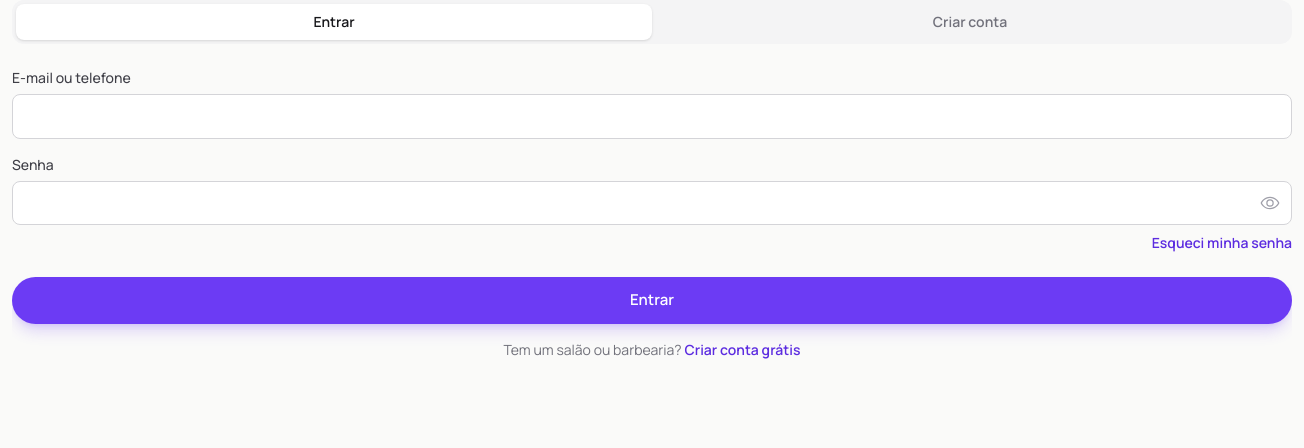
it: LoginForm: e-mail não confirmado › mostra a mensagem e o botão de reenviar quando a conta falta confirmar
Type "dono@salao.com" into the field labelled "E-mail ou telefone".
click(652, 116); type("dono@salao.com")  # box [12, 94, 1292, 138]
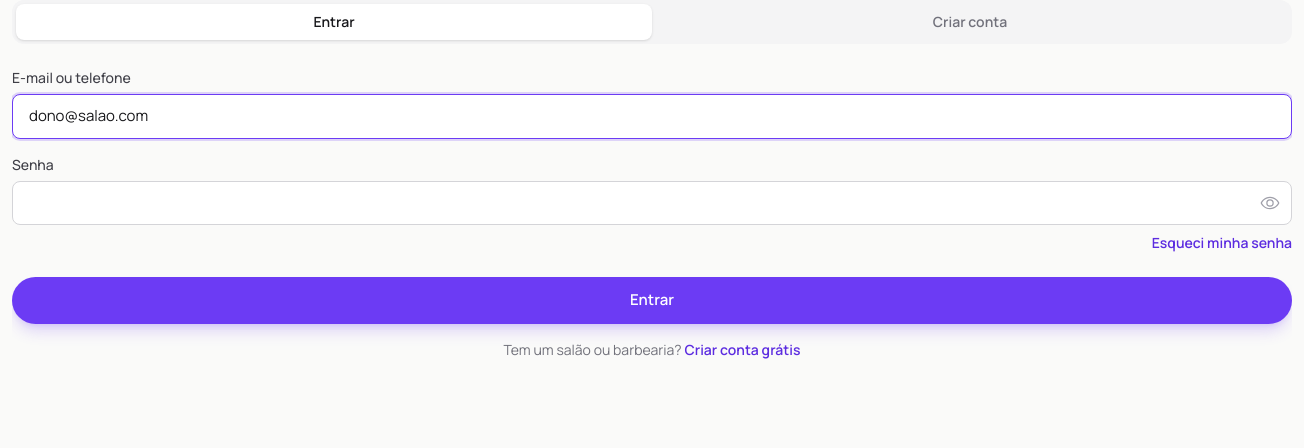
Type "senha-correta-123" into the password field labelled "Senha".
click(652, 203); type("senha-correta-123")  # box [12, 180, 1292, 225]
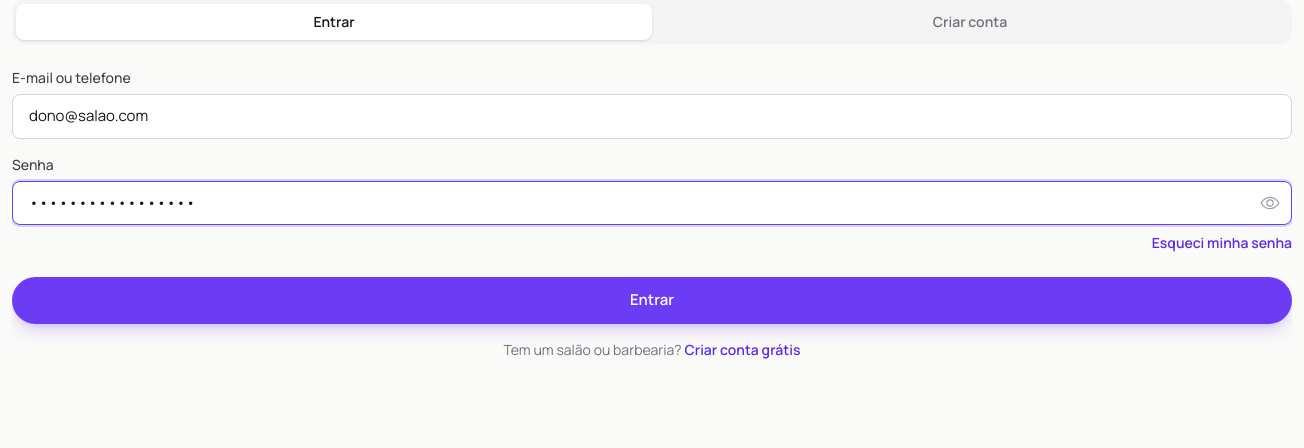
Click the button "Entrar" below "Esqueci minha senha".
click(652, 300)  # box [12, 277, 1292, 324]
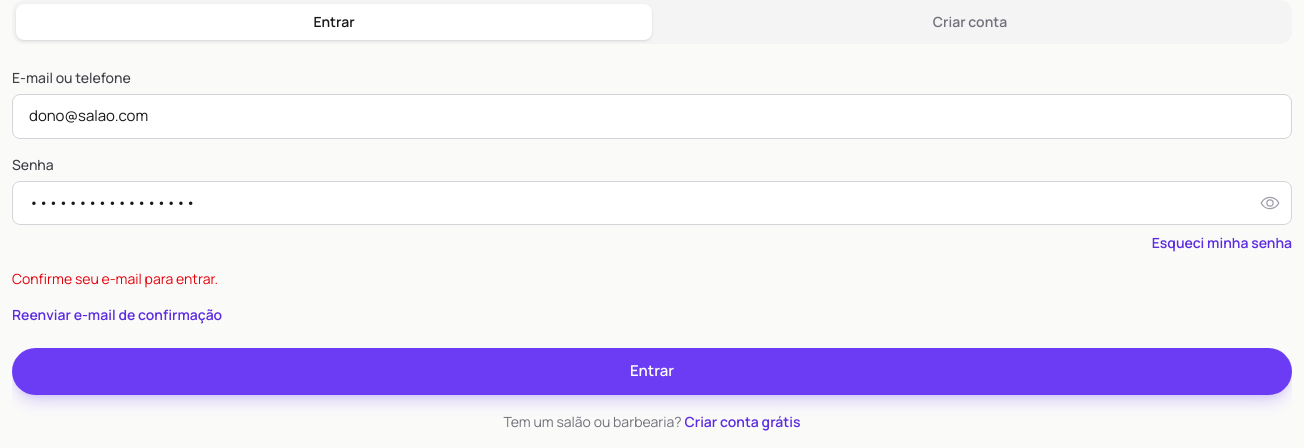
Now the message shows "Confirme seu e-mail", box [12, 269, 218, 288]
Now the button "Reenviar e-mail de confirmação" is shown, box [12, 305, 222, 325]
